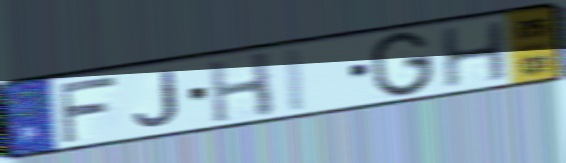F: (55, 73, 120, 146)
G: (370, 29, 435, 99)
H: (205, 49, 278, 125), (438, 18, 510, 91)
I: (282, 44, 310, 115)
J: (131, 68, 182, 129)
